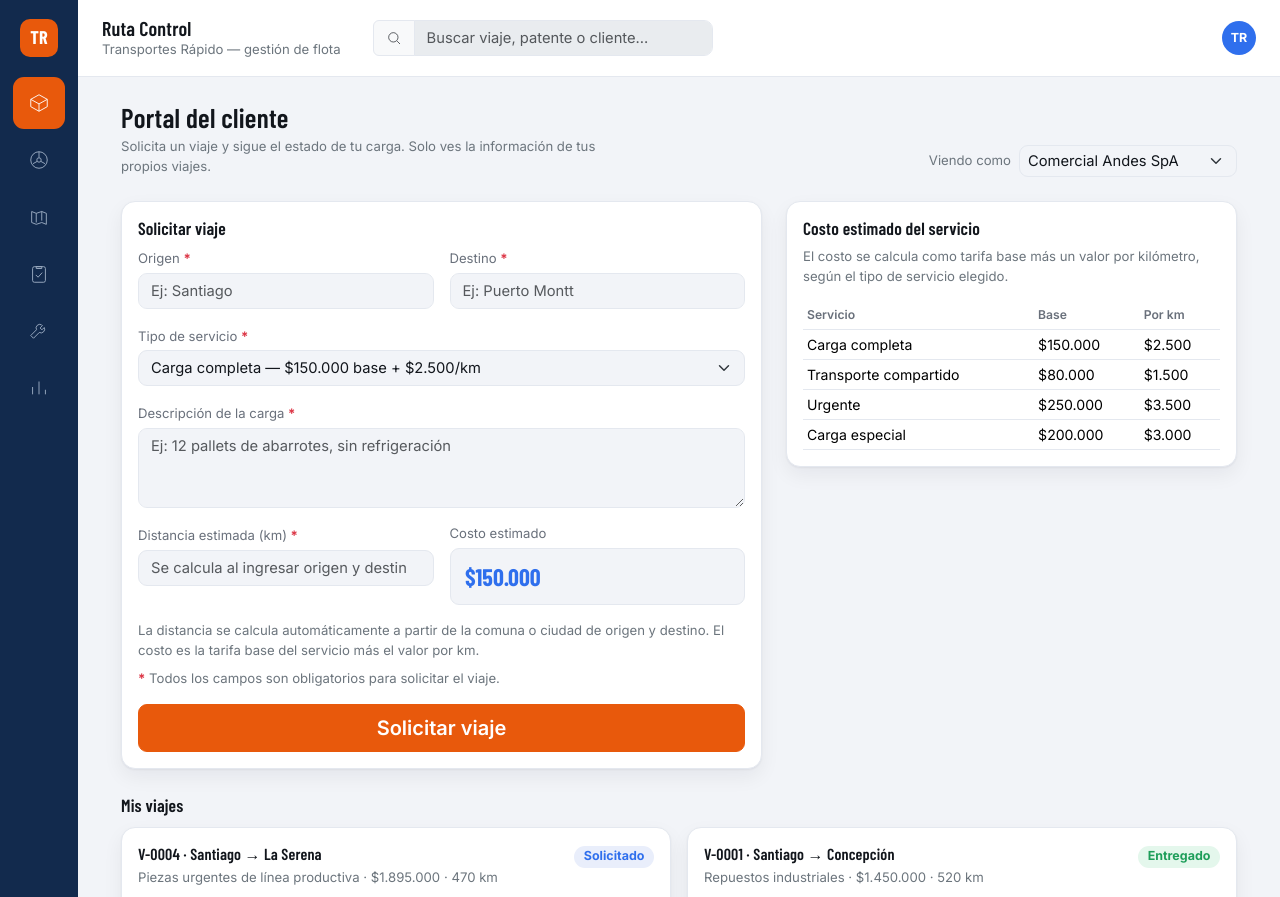
Test: App › muestra un aviso al solicitar un viaje
Type "Santiago" into the field labelled "Origen *" at (286, 291), box [138,273,434,309]
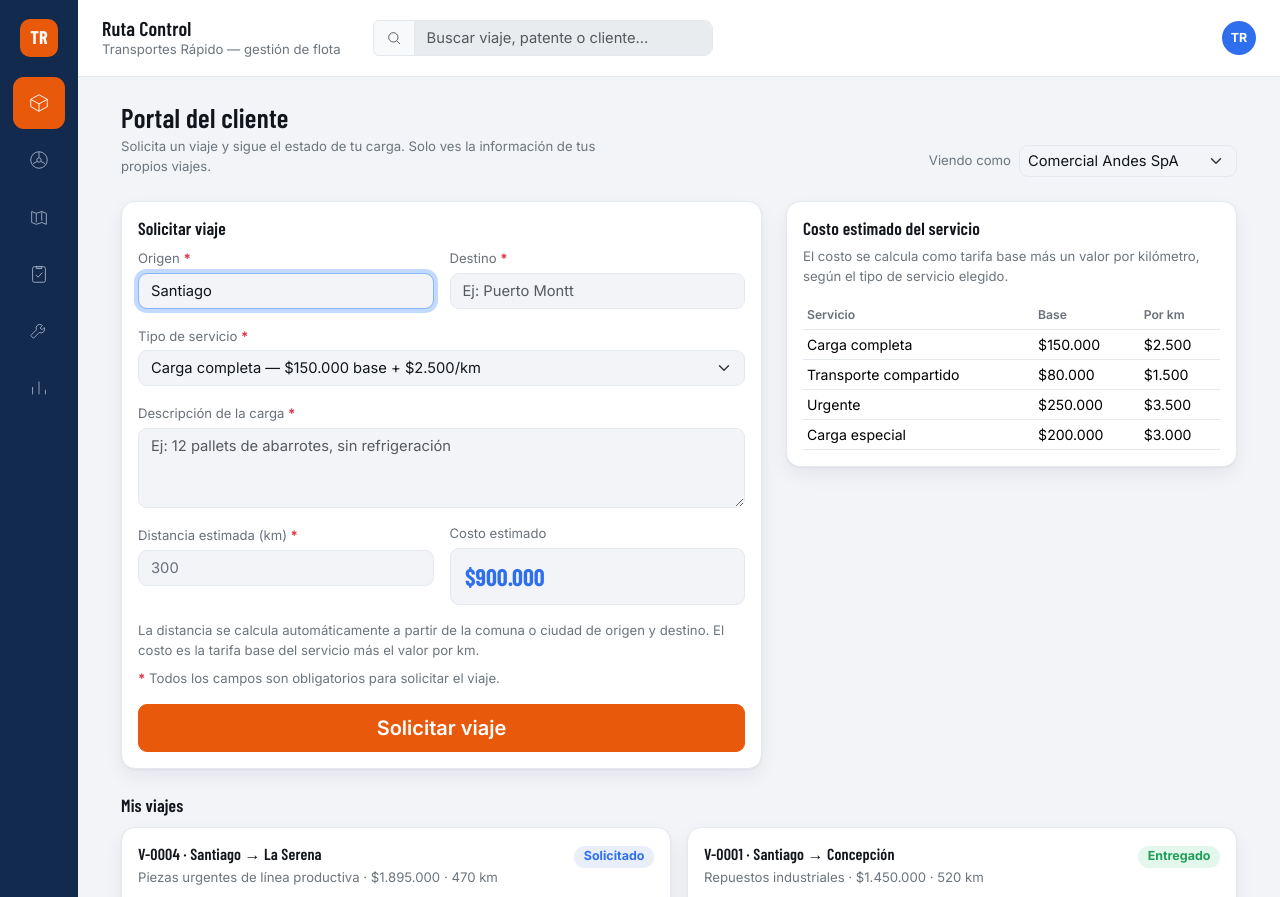
Type "Concepción" into the field labelled "Destino *" at (597, 291), box [450,273,745,309]
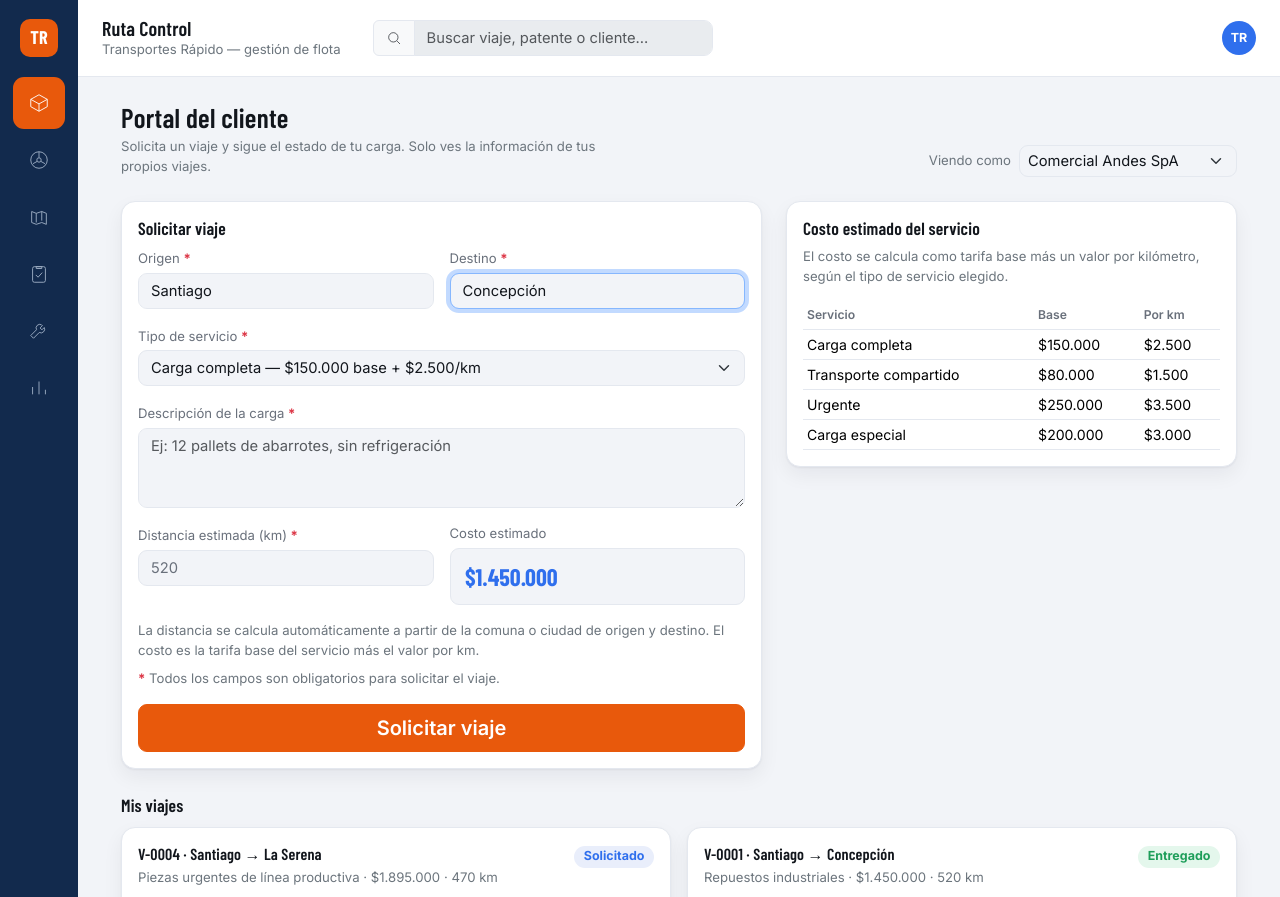
Type "Repuestos" into the text box labelled "Descripción de la carga *" at (442, 468), box [138,428,745,508]
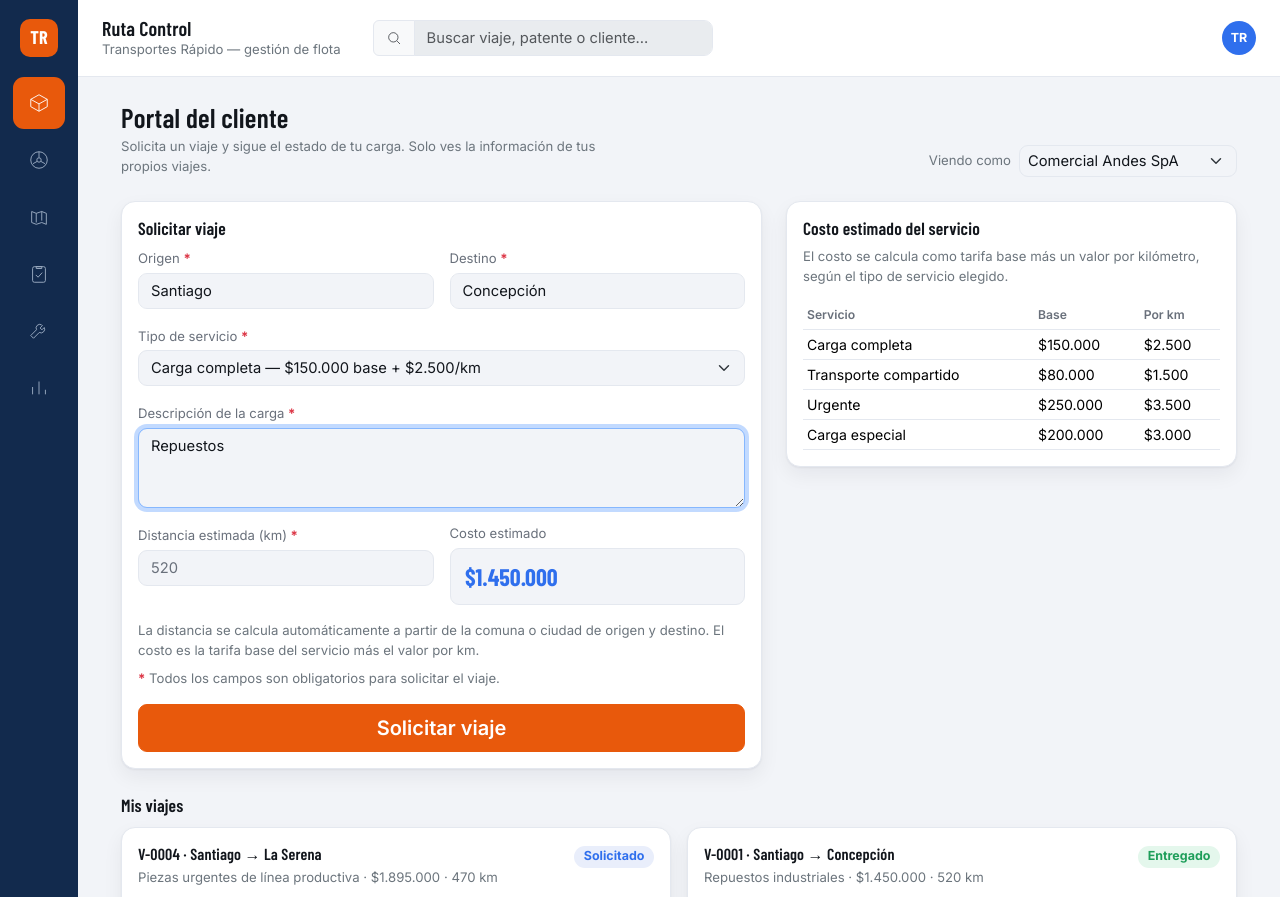
Click the button "Solicitar viaje" at (442, 728), box [138,704,745,752]
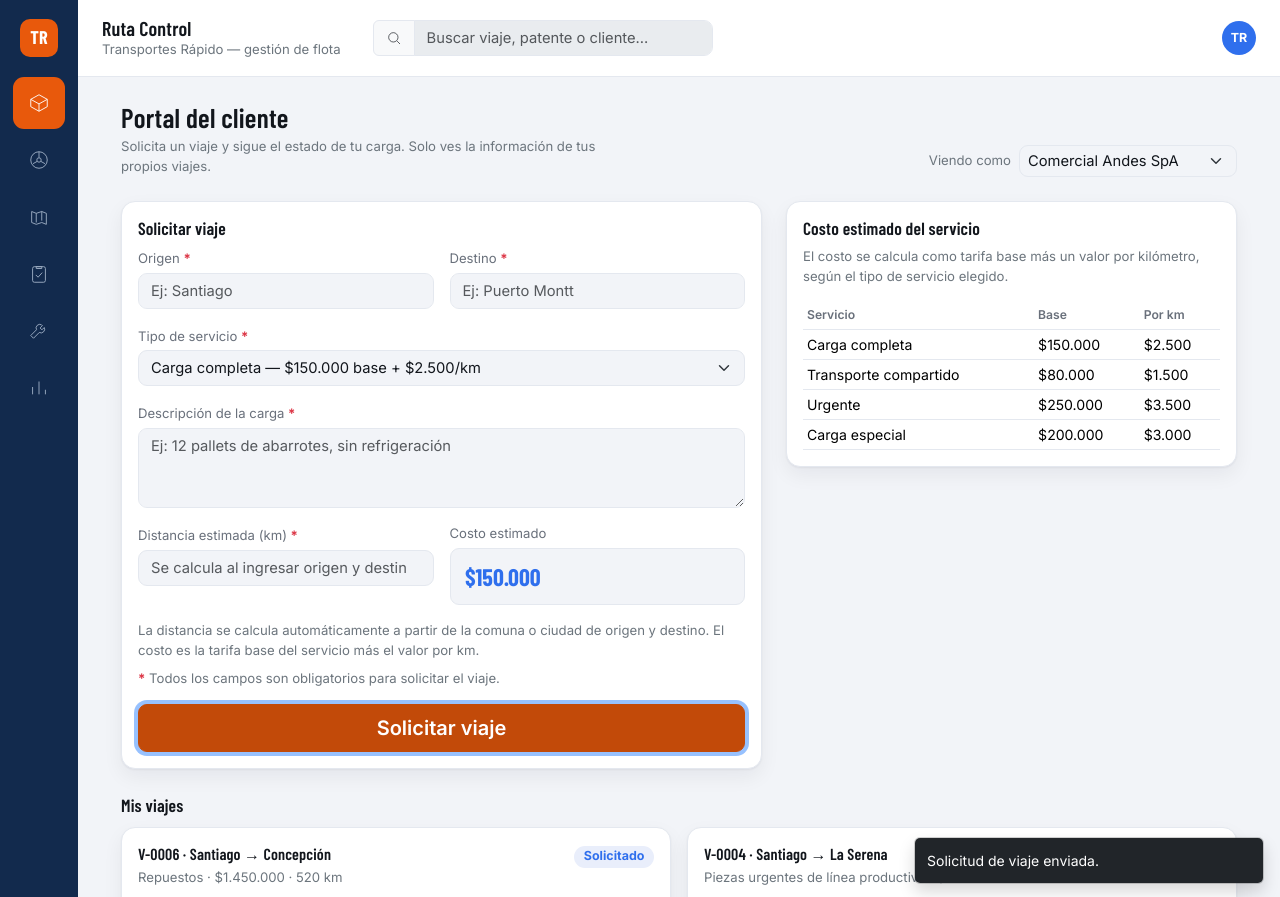
Expected: the text "Solicitud de viaje enviada." is shown, [927,852,1099,869]
